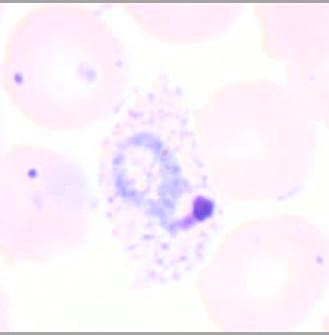Infected: (98, 77, 217, 287)
Uninfected: (201, 214, 329, 335), (5, 1, 122, 129), (195, 80, 311, 201), (2, 141, 92, 270)
